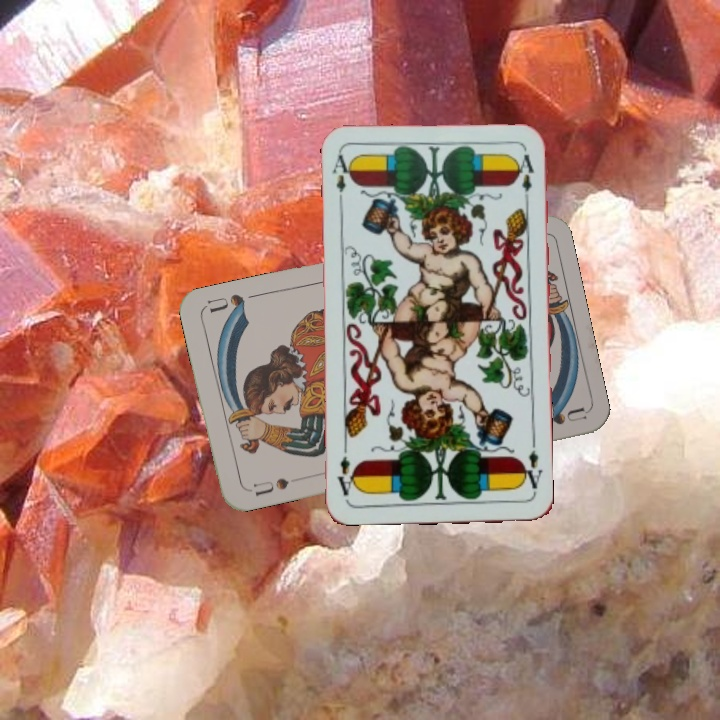EA: (328, 151, 355, 209), (517, 446, 544, 491)
SU: (243, 474, 291, 498)
